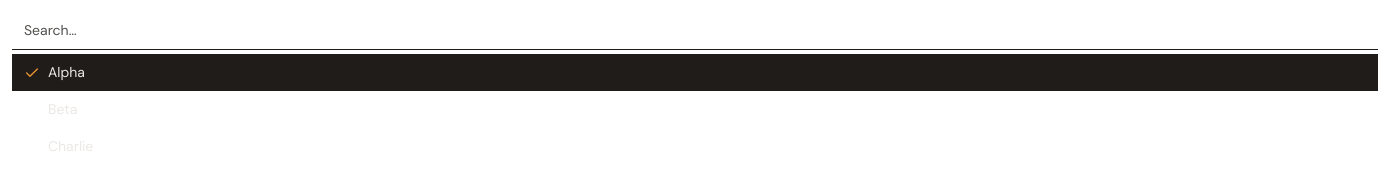
Test case: SearchablePicker › shows empty message when no results
Type "xyz" into the field with placeholder "Search…" at (695, 31), box [12,12,1378,50]
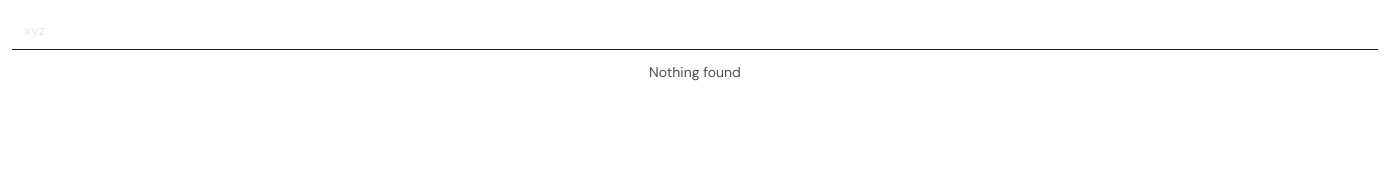
Now the text "Nothing found" is shown, box [649,63,741,81]
Now no options are shown
